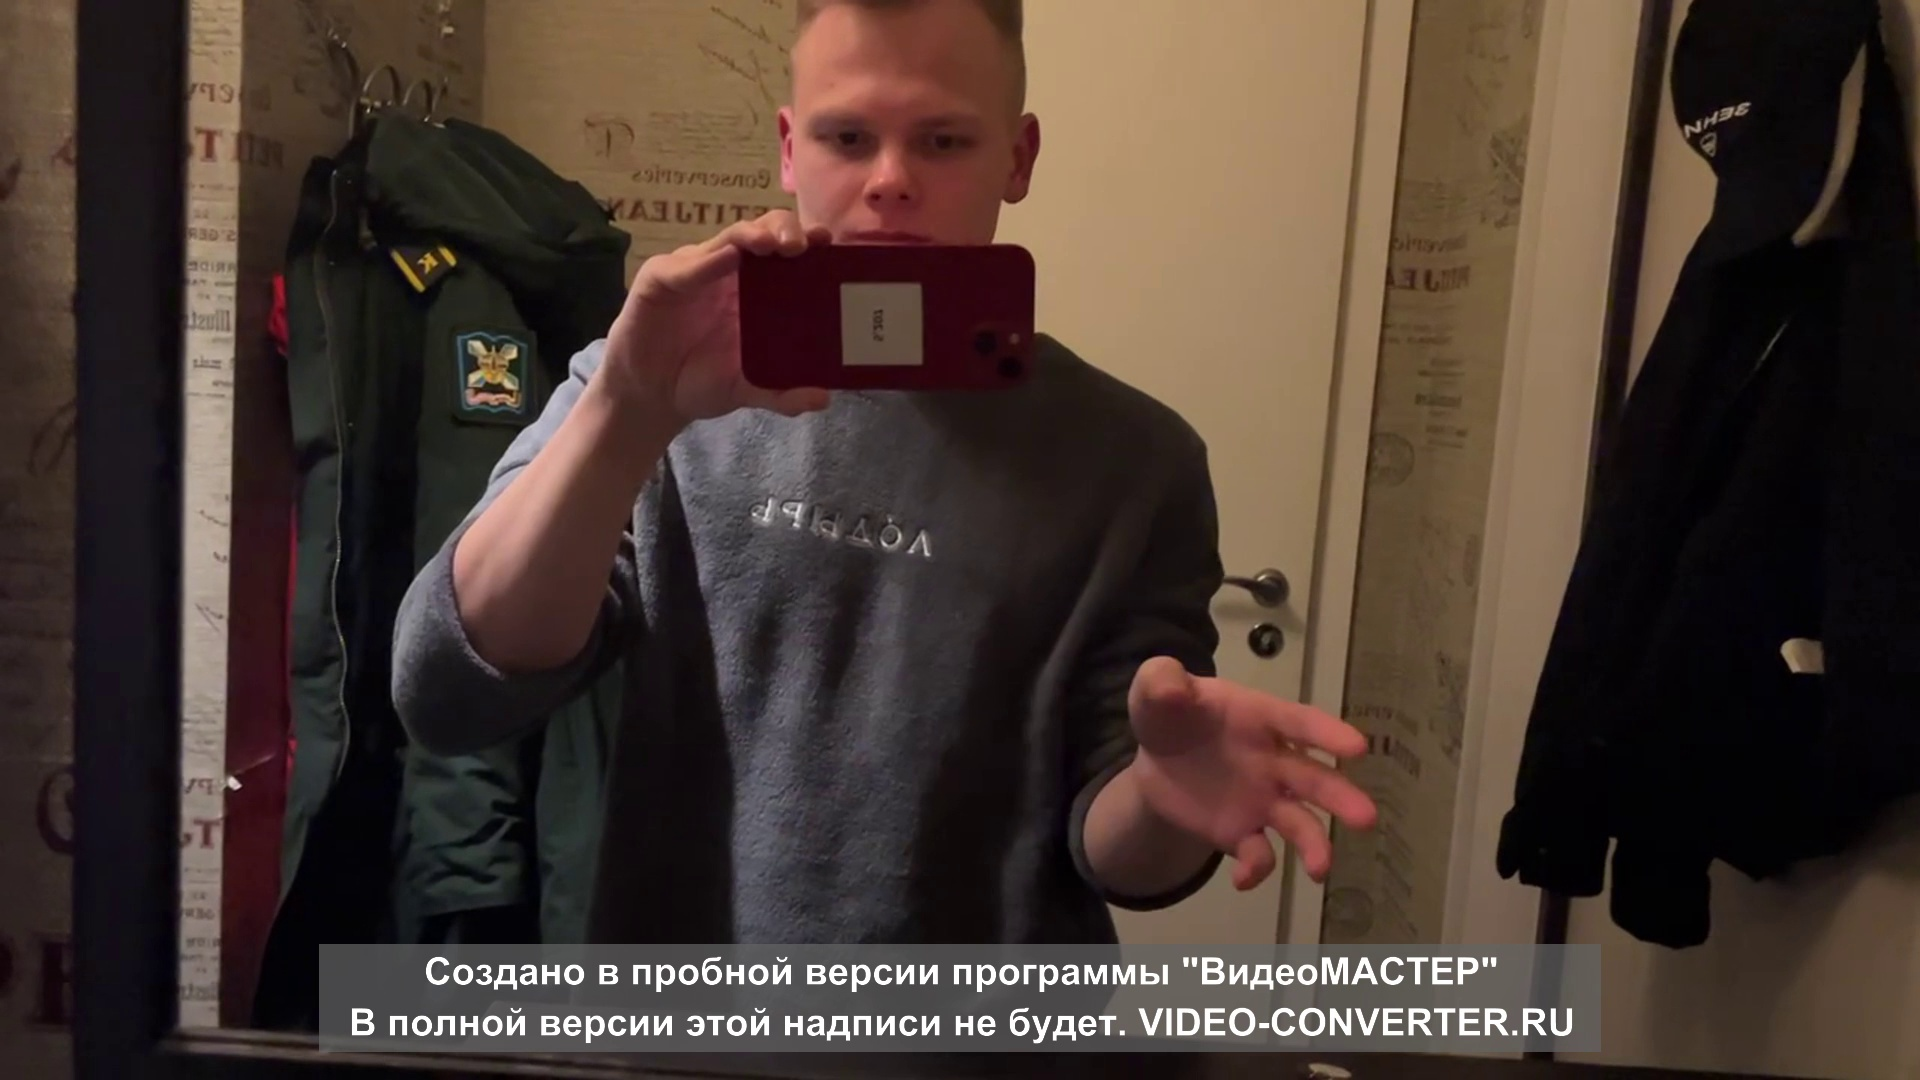Ладонь: (1130, 649, 1381, 889)
